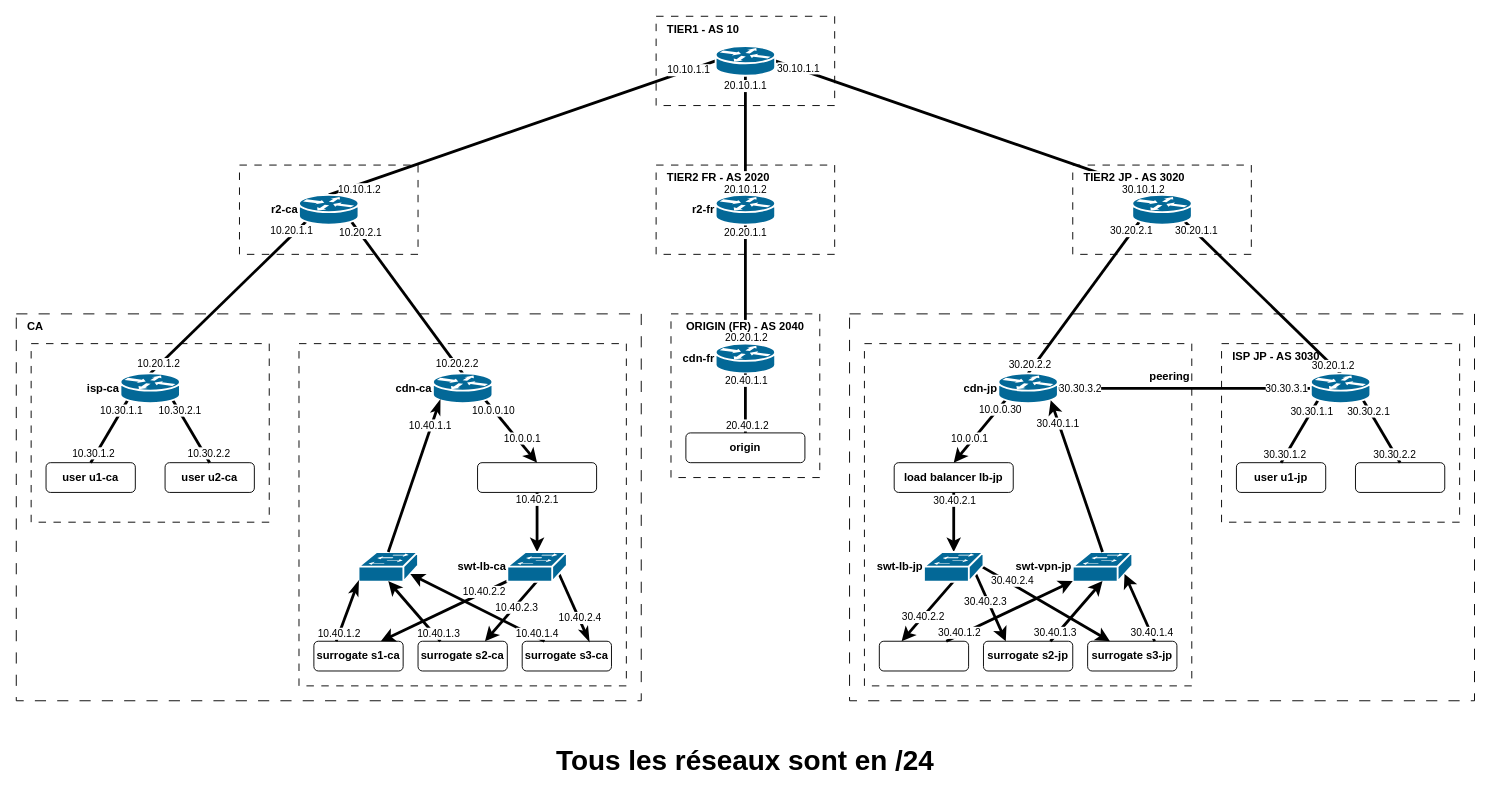
Image size: 1491x806. Some labels were removed from this diagram. Here are the shapes that lost their labels. From the top down, the box of each, then its label:
(714, 45, 776, 76): r1
(239, 164, 418, 254): TIER2 CA - AS 1020
(1131, 193, 1192, 225): r2-jp
(1309, 372, 1371, 404): isp-jp
(30, 343, 269, 522): ISP CA - AS 1030
(477, 462, 597, 492): load balancer lb-ca
(1355, 462, 1445, 492): user u2-jp
(298, 343, 626, 686): CDN CA - AS 1040
(864, 343, 1192, 686): CDN JP - AS 3040
(849, 313, 1475, 701): JP
(357, 551, 418, 582): swt-vpn-ca
(878, 640, 969, 671): surrogate s1-jp
